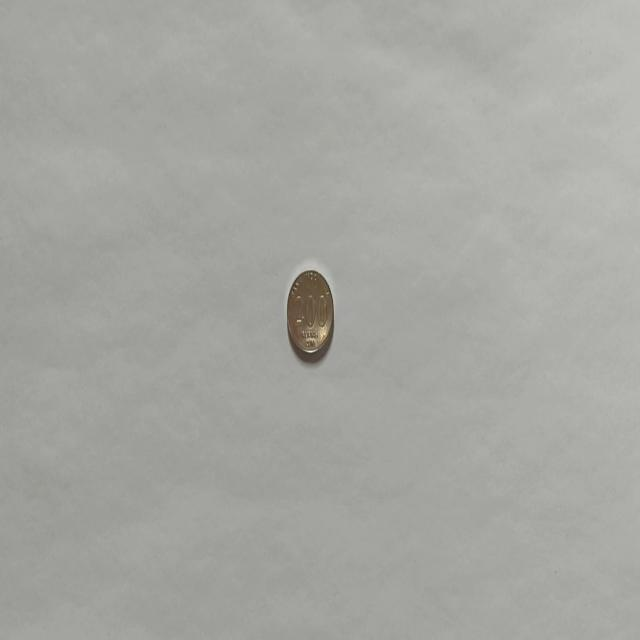dua ratus rupiah: (286, 266, 334, 358)
